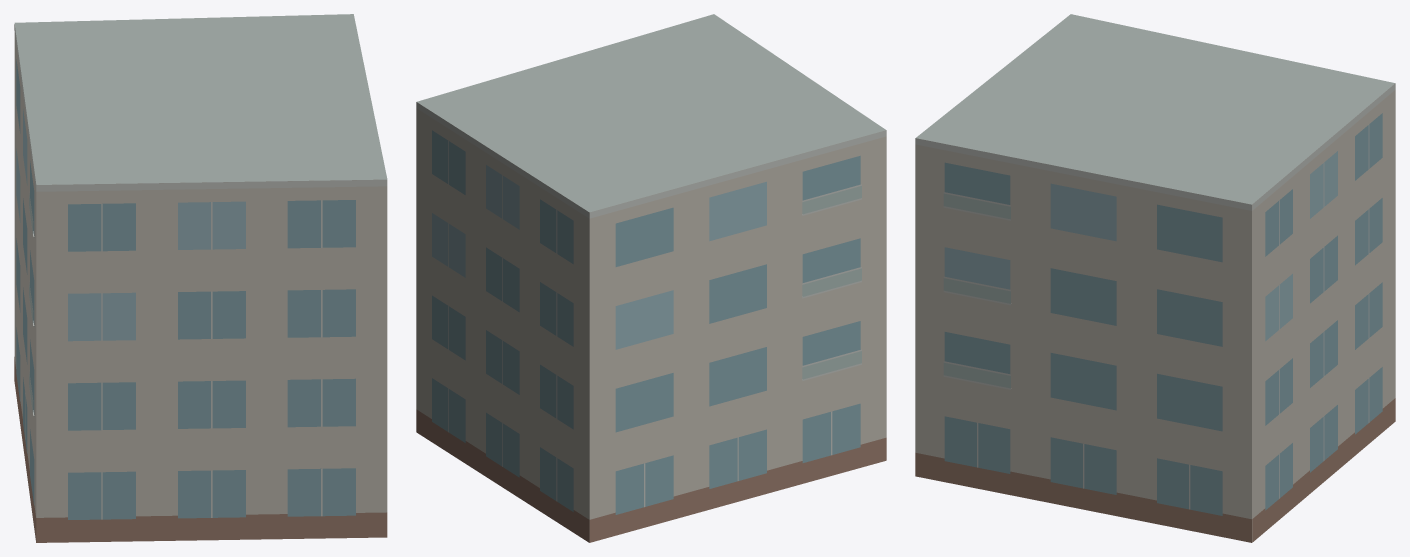
Rendered from survey-upis-32743231.glb.
3 renders of one model, left to right at view 1: azimuth 30°, elevation 25°; view 2: azimuth 150°, elevation 25°; view 3: azimuth 270°, elevation 25°, orthographic. The views are drawn at different scales.
Visible parts, largest first — view 1: survey-upis-32743231.tmp; view 2: survey-upis-32743231.tmp; view 3: survey-upis-32743231.tmp.
Part boxes in pixels (x1,y1,x2,y2): survey-upis-32743231.tmp: (14, 14, 387, 542); survey-upis-32743231.tmp: (416, 14, 886, 542); survey-upis-32743231.tmp: (915, 14, 1395, 542).
Bounding box in the file's own units: 15.6 × 12.9 × 16.6.
